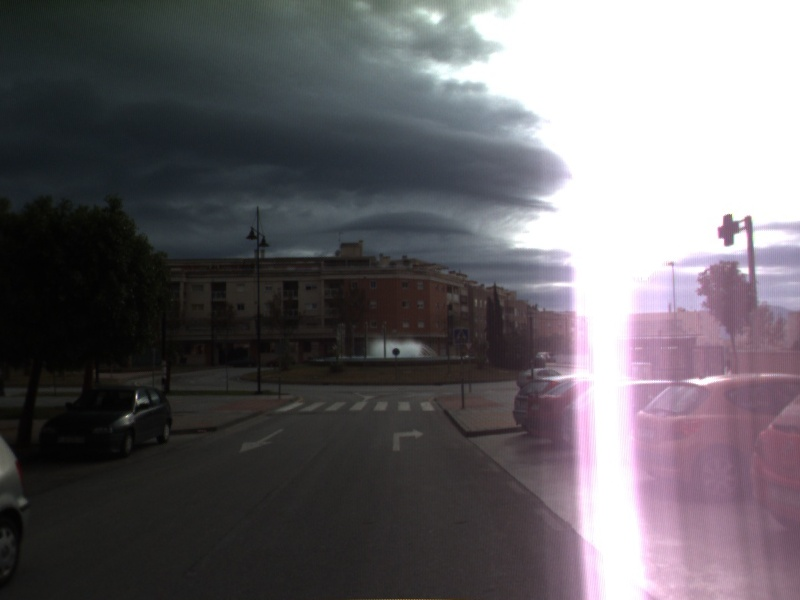RIGHT: (391, 426, 426, 453)
